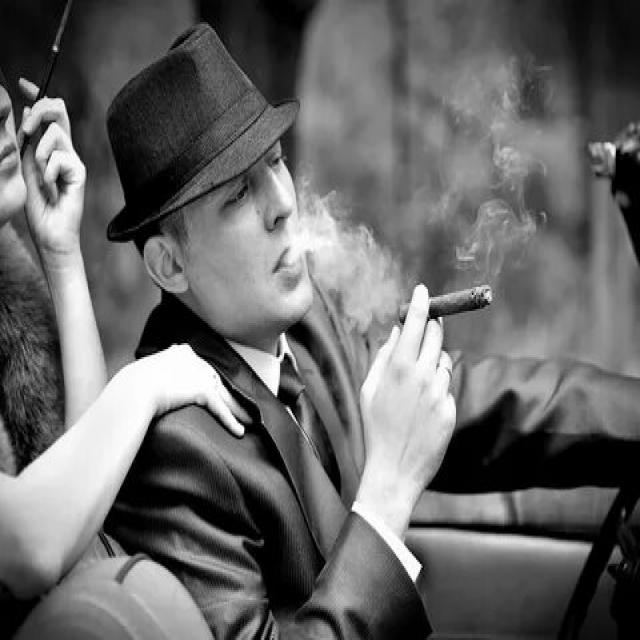cigarette: (16, 0, 81, 169), (392, 283, 501, 335)
